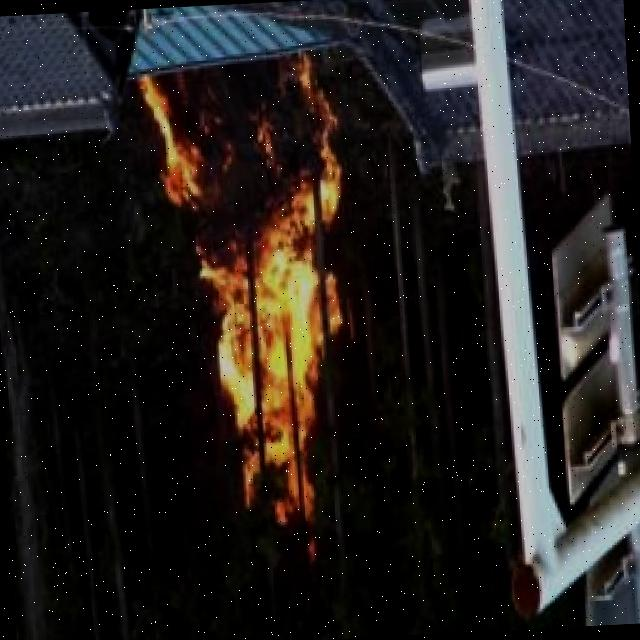fire: (144, 51, 356, 546)
